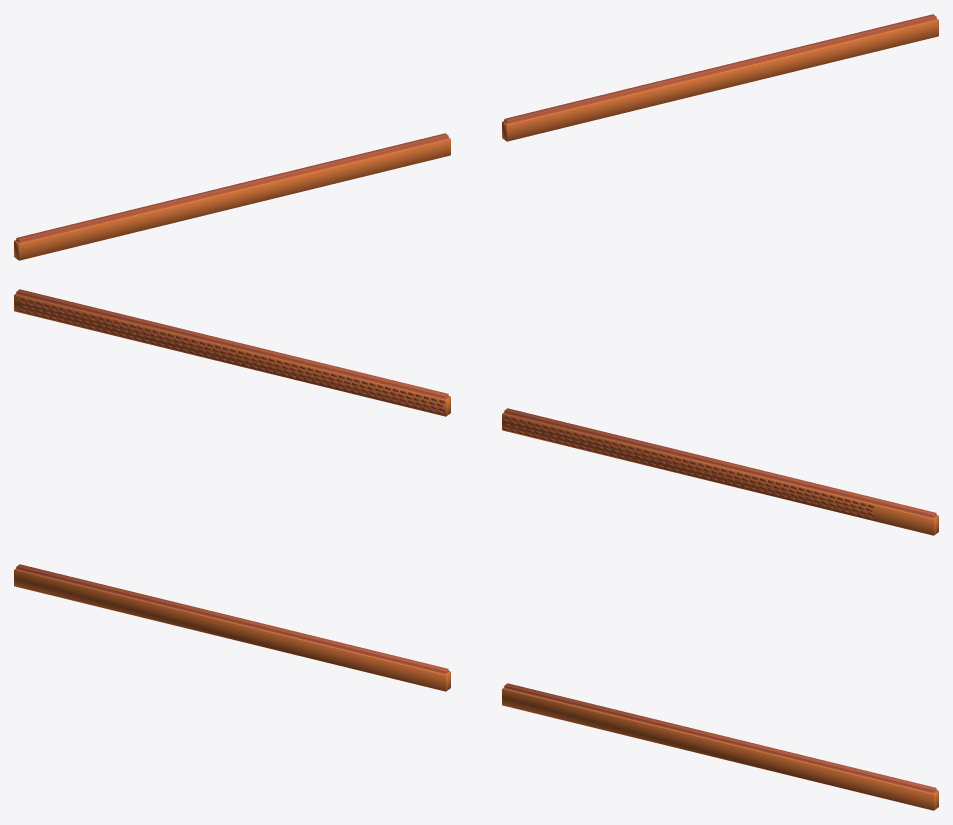
Rendered from Bricks.fbx.
The picture shows the model from 3 angles, top to bottom: view 1: azimuth 30°, elevation 25°; view 2: azimuth 150°, elevation 25°; view 3: azimuth 330°, elevation 25°; orthographic projection.
Parts seen in each view (by area): view 1: WallBrick; view 2: WallBrick; view 3: WallBrick.
Part boxes in pixels (x1,y1,x2,y2): WallBrick: [14, 14, 938, 260]; WallBrick: [14, 289, 938, 535]; WallBrick: [14, 564, 938, 810].
Bounding box in the file's own units: 6170 × 129 × 63.06.
